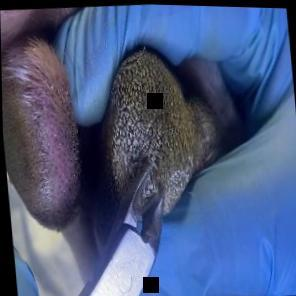keratosis: (95, 44, 222, 227)
